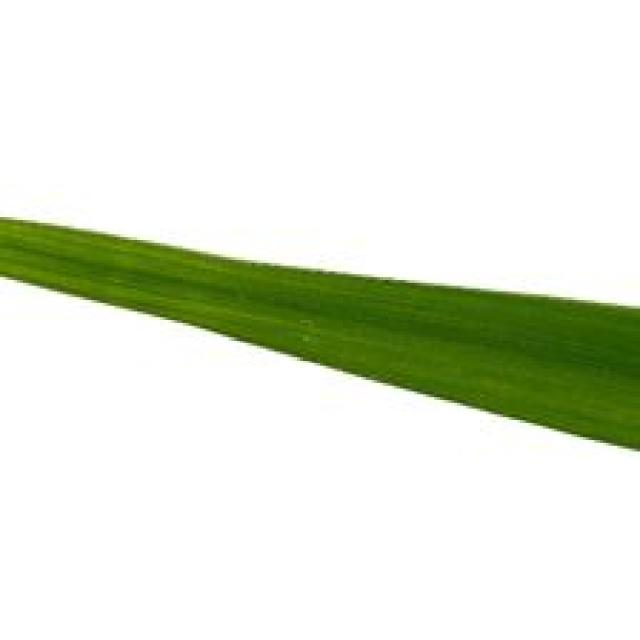Rice___Healthy_Rice_Plant: (0, 214, 637, 453)
